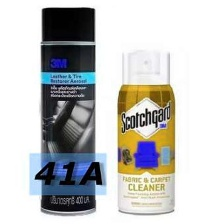aerosol_cans: (37, 5, 99, 219), (114, 45, 177, 218)
